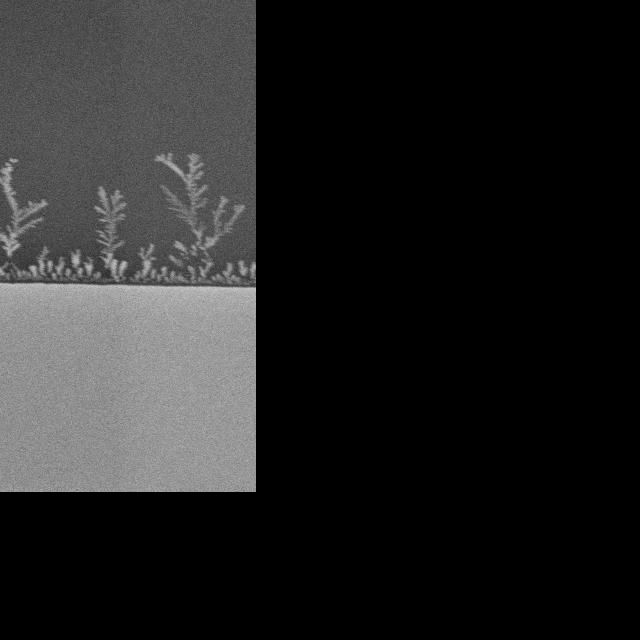Dendrite: (155, 153, 255, 286), (0, 160, 47, 280), (94, 186, 126, 282), (28, 247, 104, 281), (130, 244, 186, 282)
